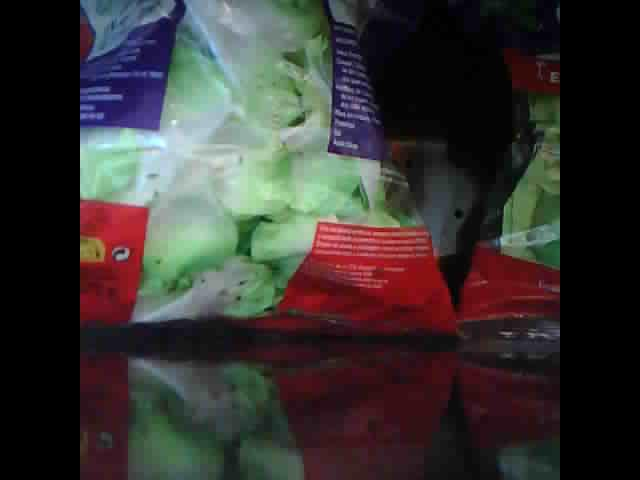florette: (80, 2, 455, 345), (454, 39, 563, 355)
